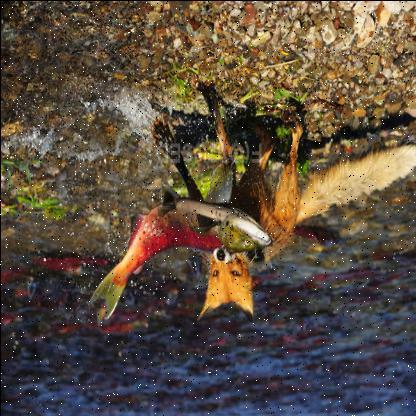fish: (87, 185, 272, 321)
